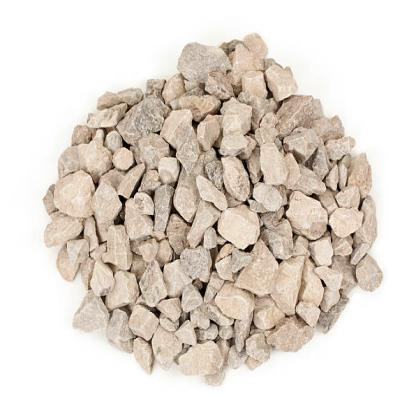Sedimentary_Limestone: (114, 94, 176, 152), (177, 35, 230, 82), (48, 171, 104, 215), (176, 337, 238, 374), (285, 190, 329, 242), (264, 51, 301, 108), (88, 179, 126, 234), (271, 254, 304, 314), (219, 203, 261, 250), (279, 125, 319, 168), (72, 290, 112, 331), (214, 281, 256, 320), (150, 327, 186, 371), (256, 137, 288, 186), (216, 97, 250, 140), (104, 270, 140, 310), (112, 296, 136, 356), (238, 66, 272, 108), (139, 255, 165, 308), (193, 175, 231, 211), (132, 300, 162, 344), (326, 206, 363, 238), (250, 184, 284, 211), (178, 280, 206, 310), (312, 267, 346, 289), (196, 114, 219, 146), (155, 162, 184, 186)
